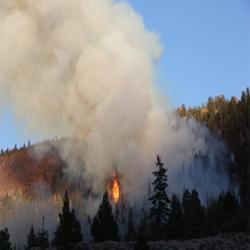fire: (111, 175, 127, 202)
smoke: (78, 41, 160, 148)
